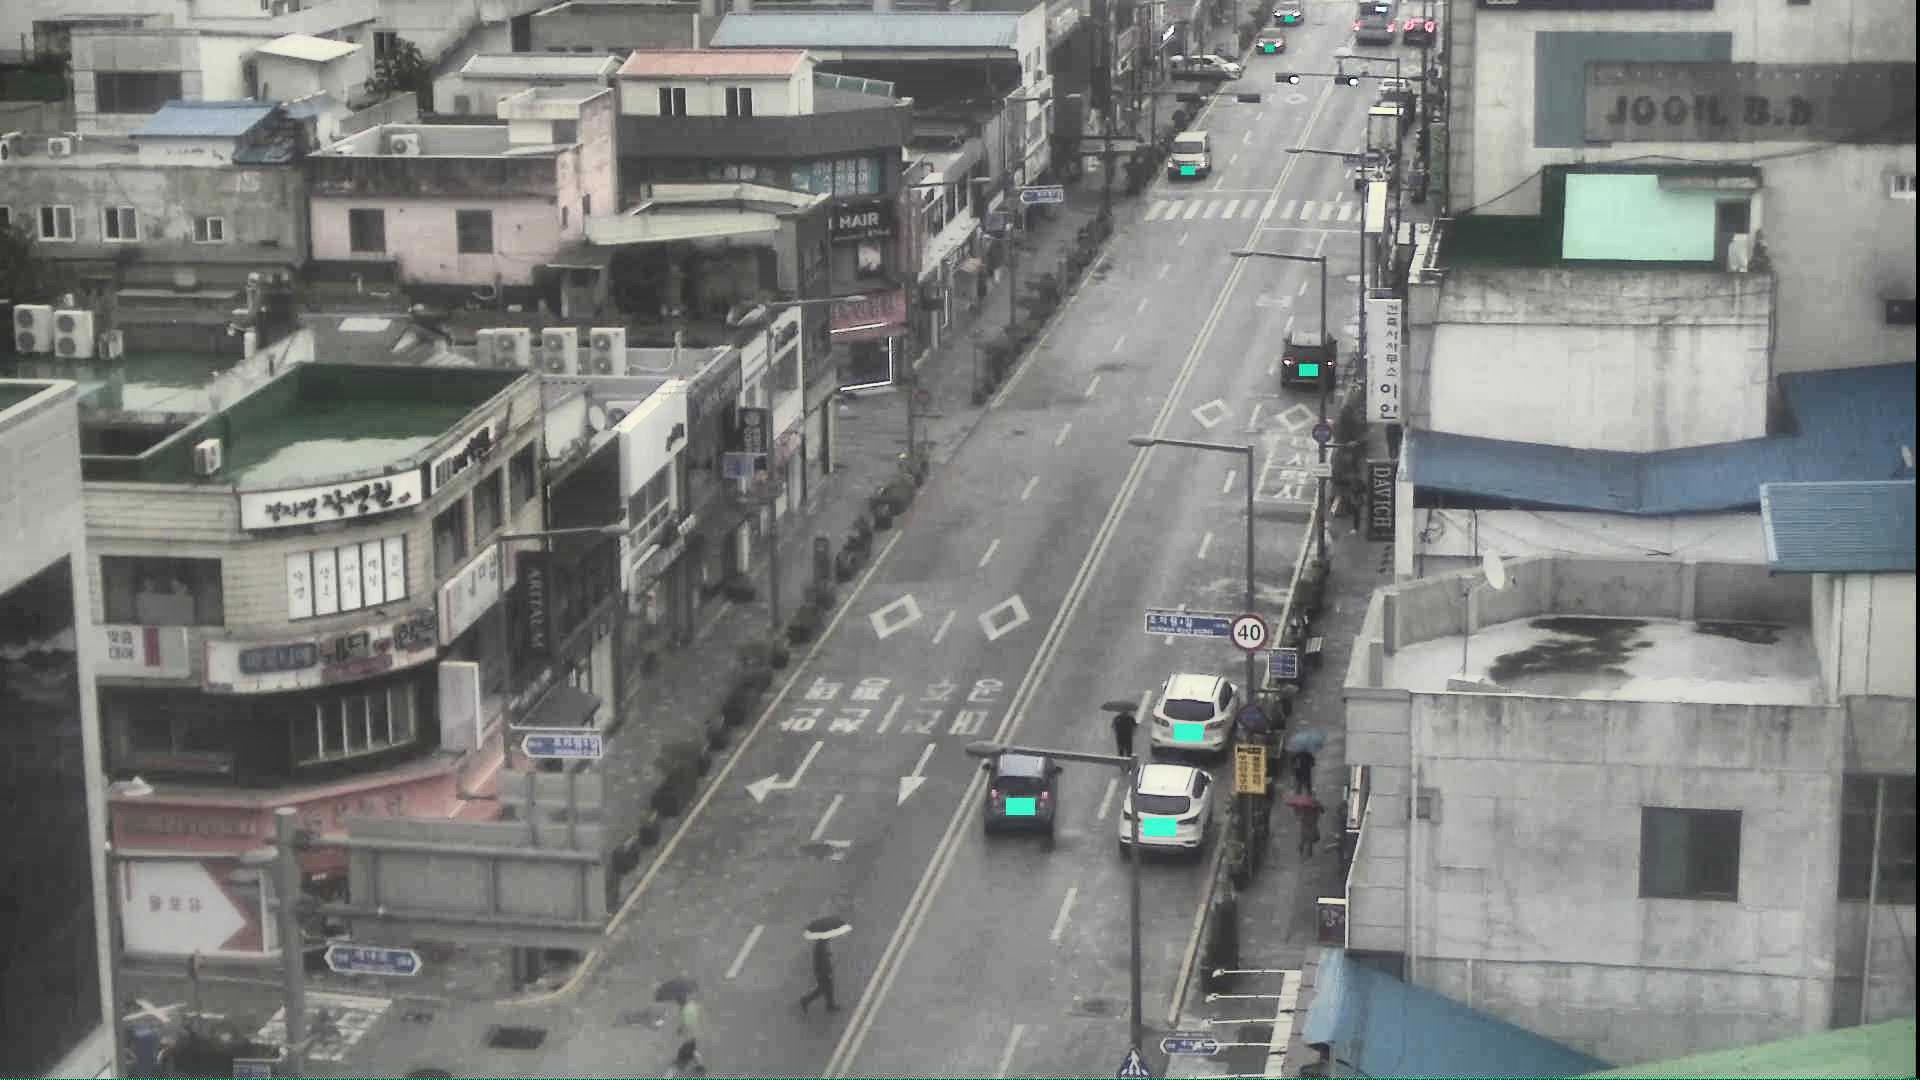sidewalk: (1385, 421, 1403, 465)
um_jaywalk: (796, 916, 855, 1013), (655, 977, 704, 1080), (1101, 699, 1139, 779)
um_sidewalk: (1284, 731, 1325, 793), (1288, 794, 1323, 858), (1342, 475, 1367, 537)
